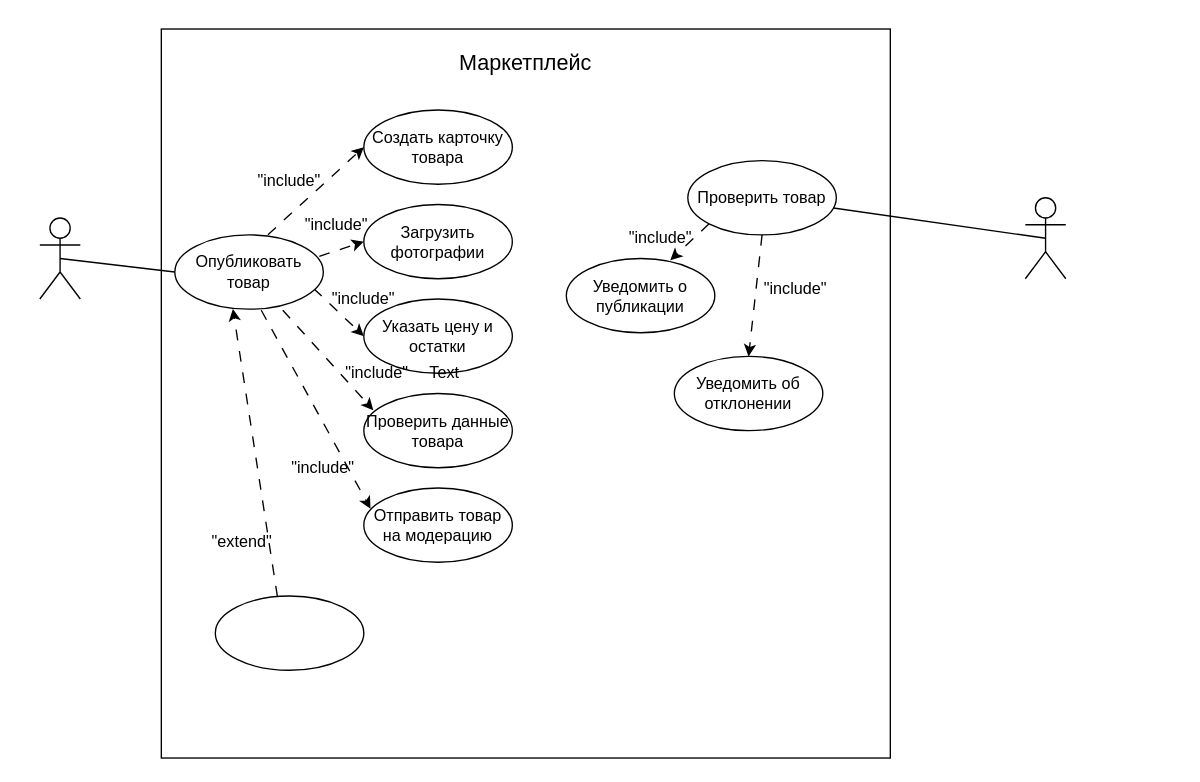
This 1200x782 diagram has some shape labels left out. The centre of each missing label's shape, as x and y in pixels:
Продавец: the point at 59,258
Редактировать товар: the point at 289,632
Система модерации маркетплейса: the point at 1045,237
